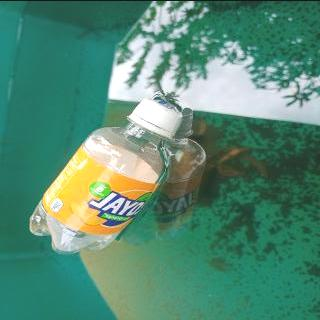bottle: (27, 96, 185, 256)
